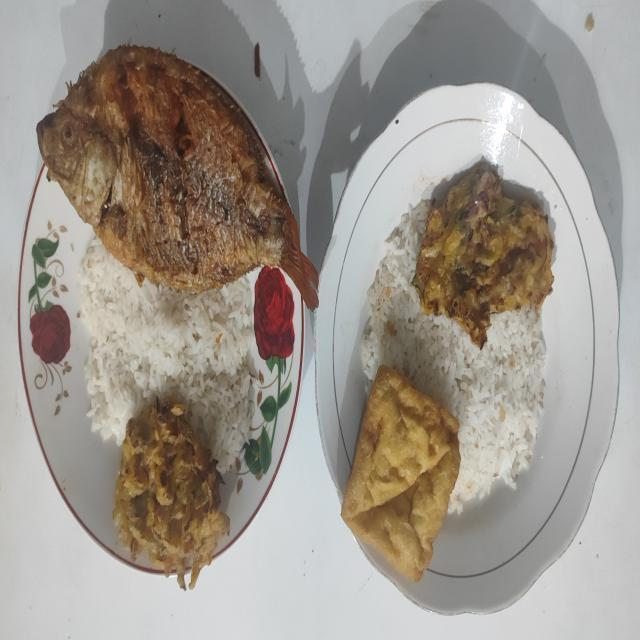ikan_mujair: (36, 46, 318, 309)
nasi_putih: (360, 201, 546, 514), (78, 237, 256, 470)
tahu_goreng: (342, 365, 461, 581)
